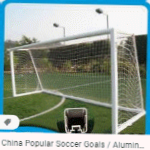goals: (8, 26, 145, 133)
